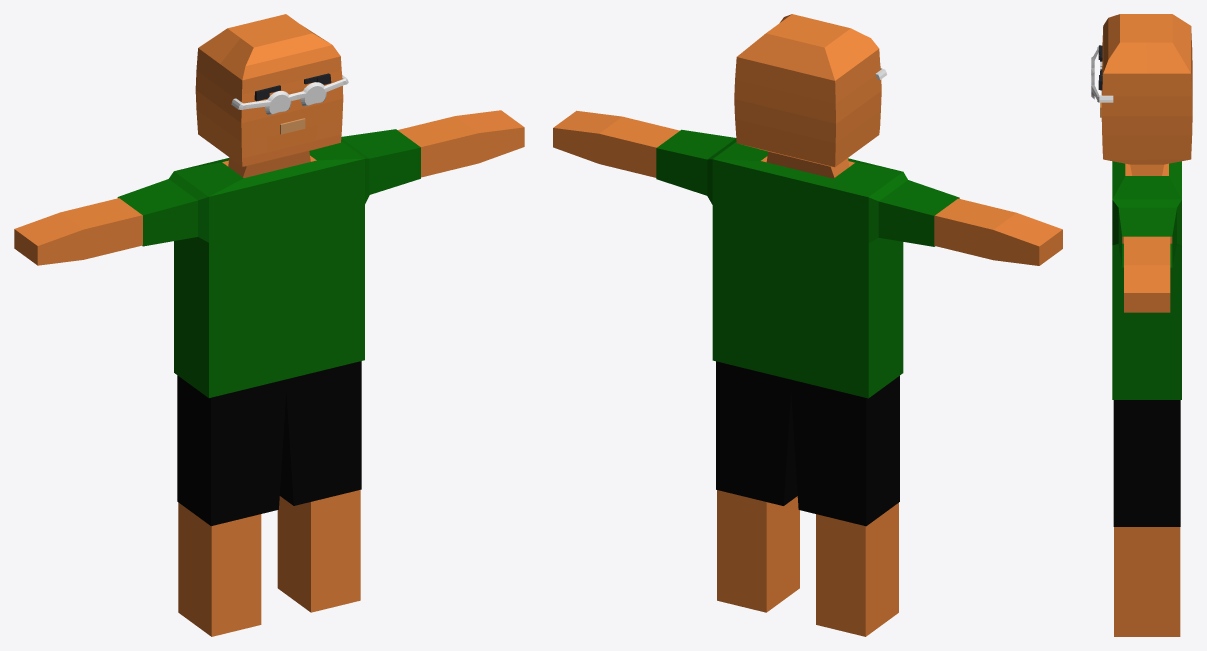
Rendered from character4.glb.
The picture shows the model from 3 angles, left to right: view 1: azimuth 30°, elevation 25°; view 2: azimuth 150°, elevation 25°; view 3: azimuth 270°, elevation 25°; orthographic projection.
Visible parts, largest first — view 1: Cube; view 2: Cube; view 3: Cube.
Part boxes in pixels (x1=…): Cube: x1=14, y1=14, x2=524, y2=636; Cube: x1=553, y1=14, x2=1062, y2=636; Cube: x1=1091, y1=14, x2=1192, y2=636.
Bounding box in the file's own units: 1.8 × 2.03 × 0.3261.
